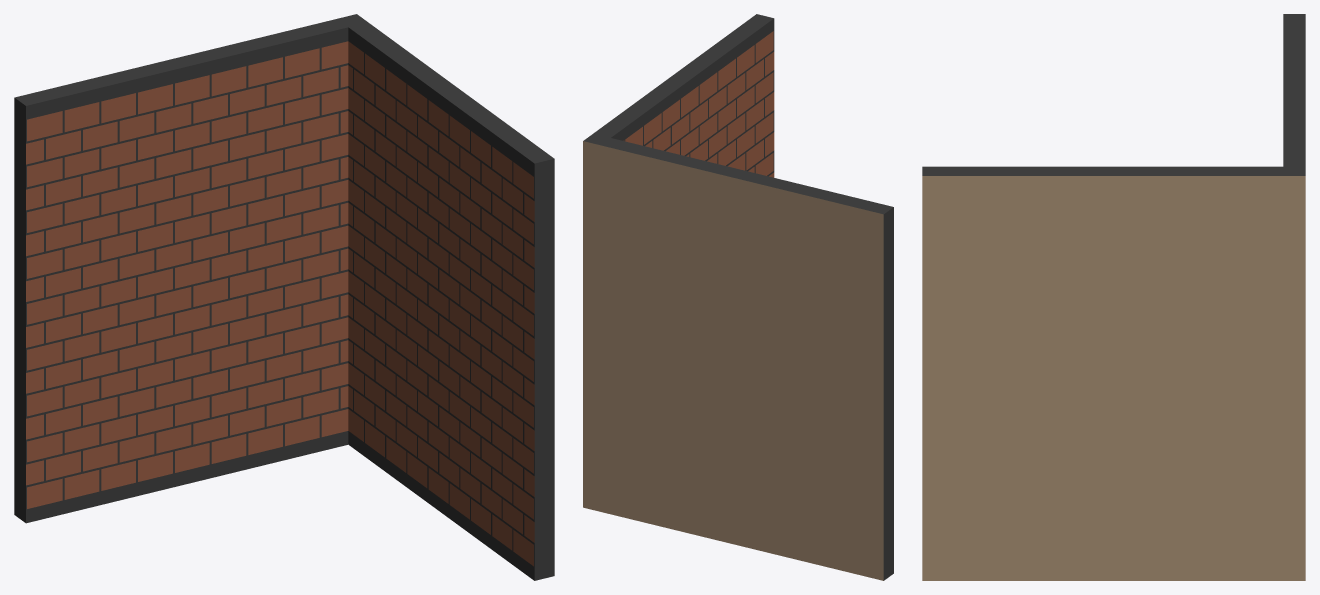
Rendered from Wall2_C10_06.fbx.
The picture shows the model from 3 angles, left to right: view 1: azimuth 30°, elevation 25°; view 2: azimuth 150°, elevation 25°; view 3: azimuth 270°, elevation 25°; orthographic projection. The views are drawn at different scales.
Parts seen in each view (by area): view 1: Wall2_C10_06; view 2: Wall2_C10_06; view 3: Wall2_C10_06.
Boxes of the visible parts, <box> form: Wall2_C10_06: <box>14,14,554,580</box>; Wall2_C10_06: <box>583,14,893,580</box>; Wall2_C10_06: <box>922,14,1305,580</box>.
Bounding box in the file's own units: 258 × 300 × 258.
